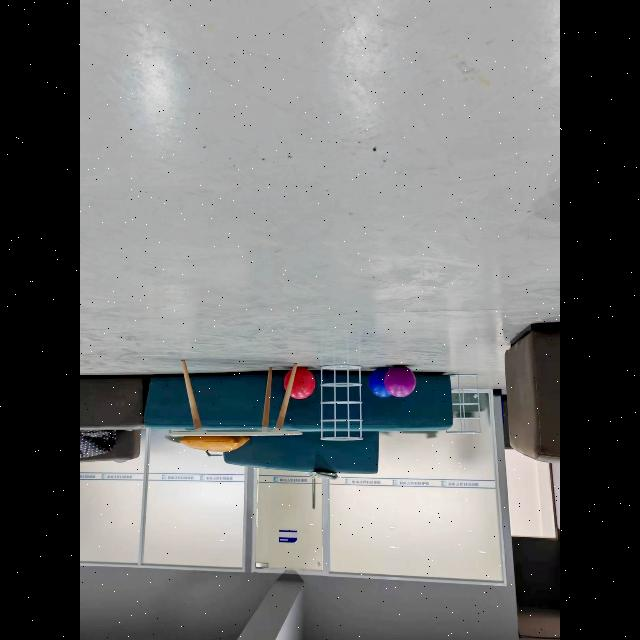B: (369, 368, 392, 397)
P: (384, 366, 417, 397)
R: (284, 366, 314, 399)
S: (321, 366, 363, 440)
